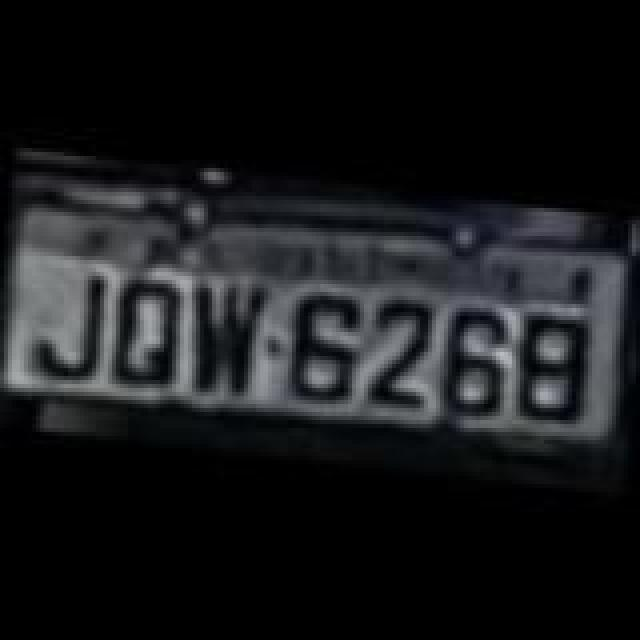2: (354, 290, 442, 414)
6: (428, 292, 528, 420), (282, 284, 370, 408)
8: (508, 304, 600, 432)
J: (22, 258, 118, 382)
Q: (102, 264, 190, 384)
W: (184, 272, 276, 400)
